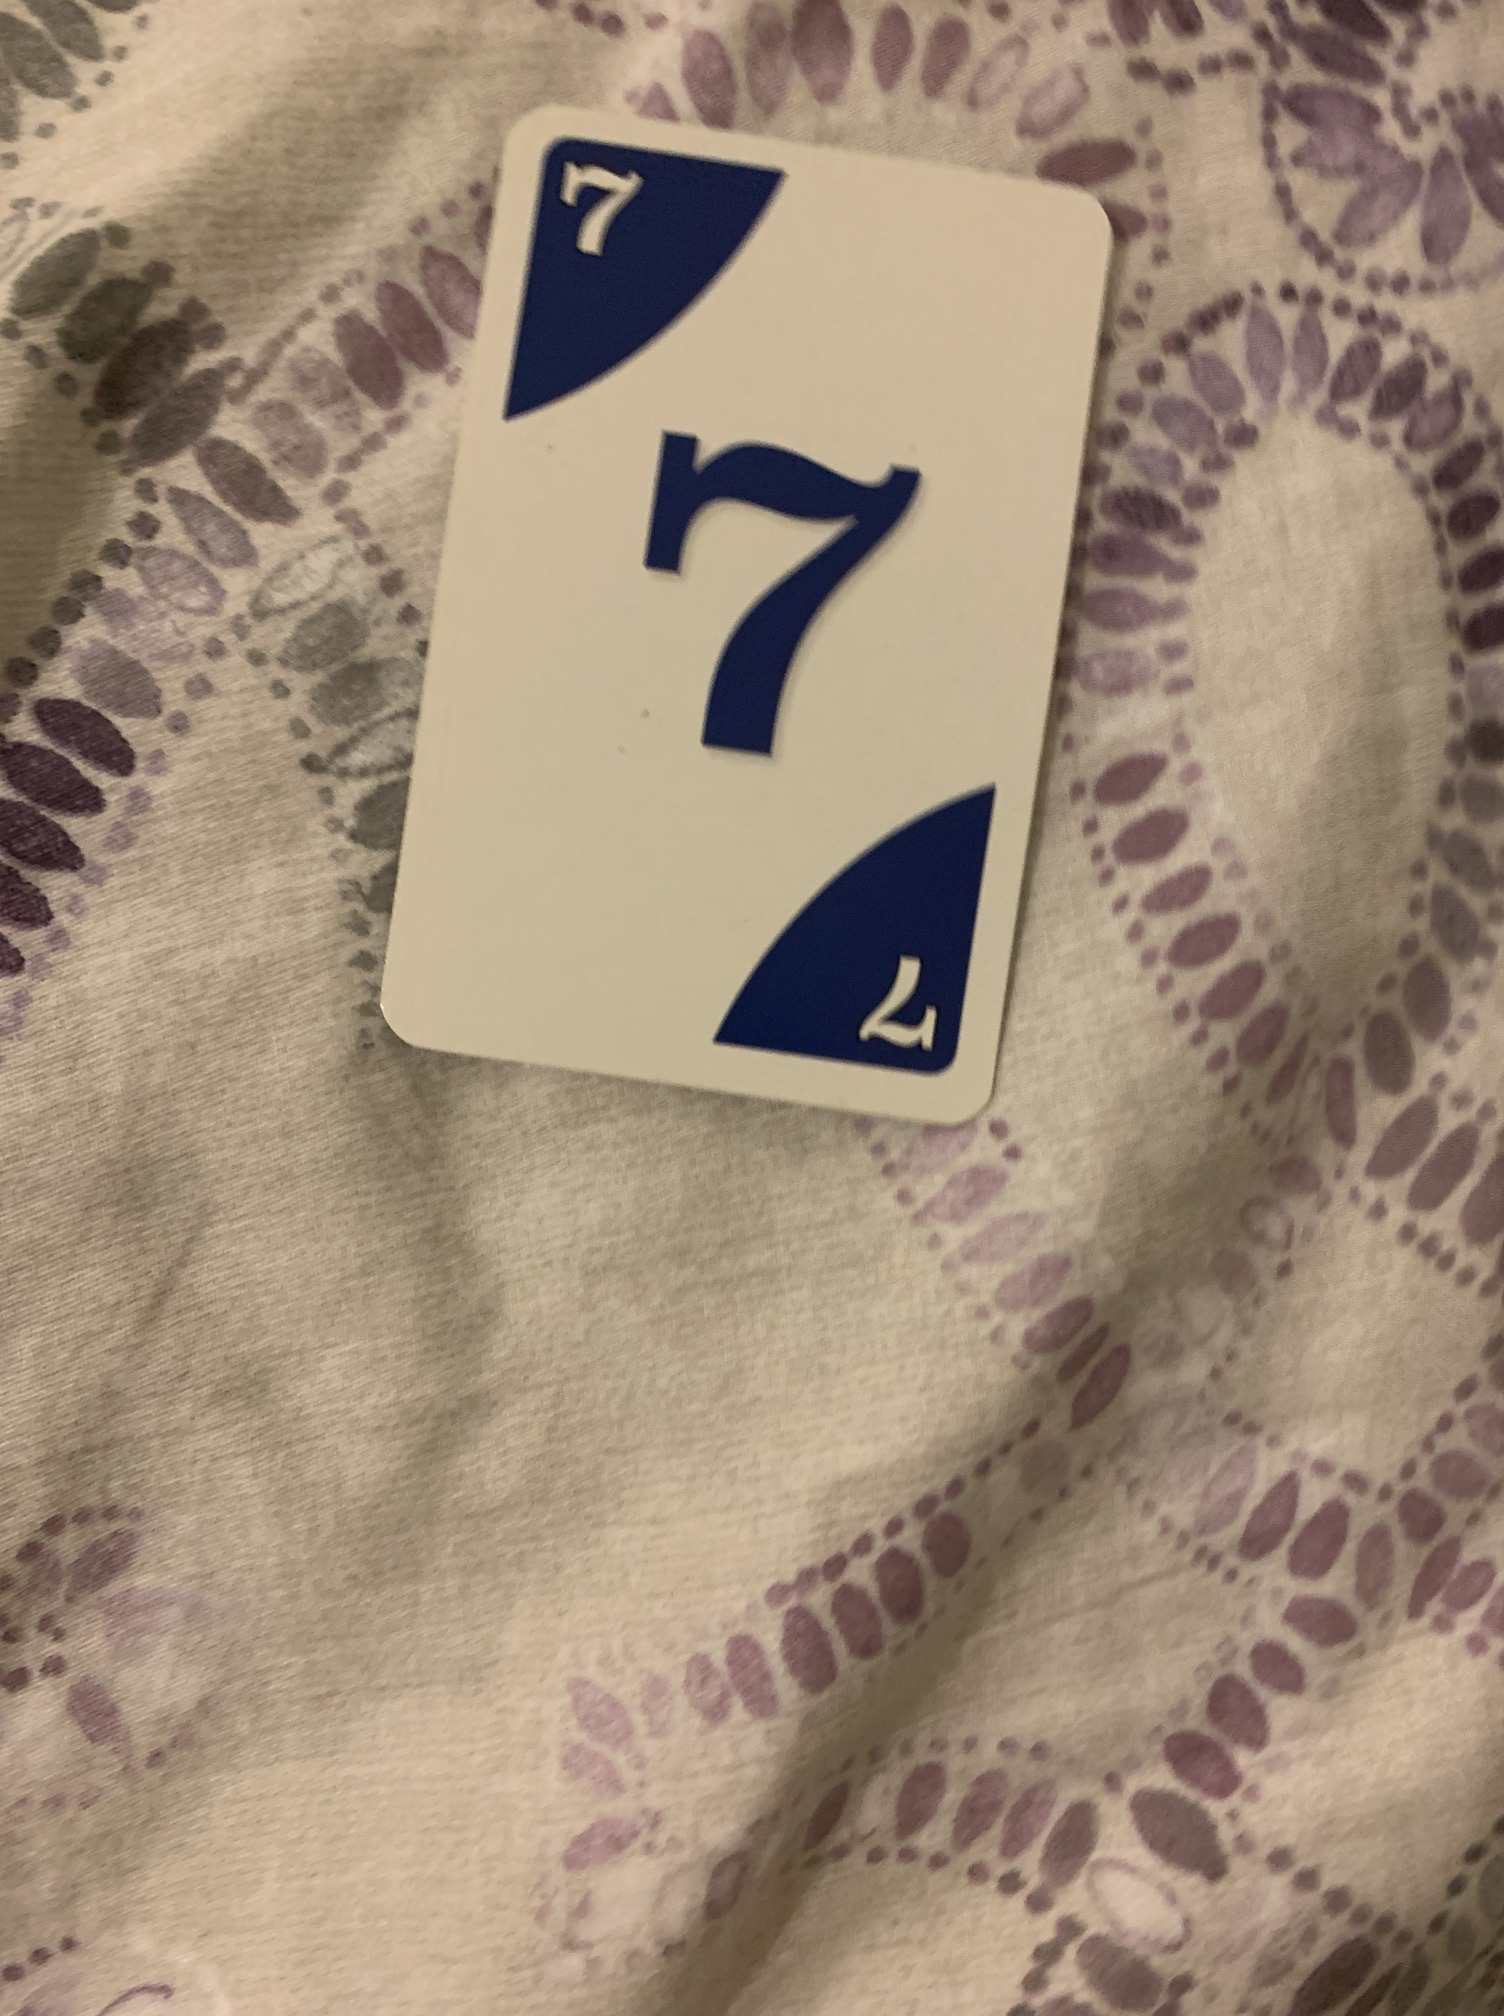seven: (374, 106, 1123, 1130)
